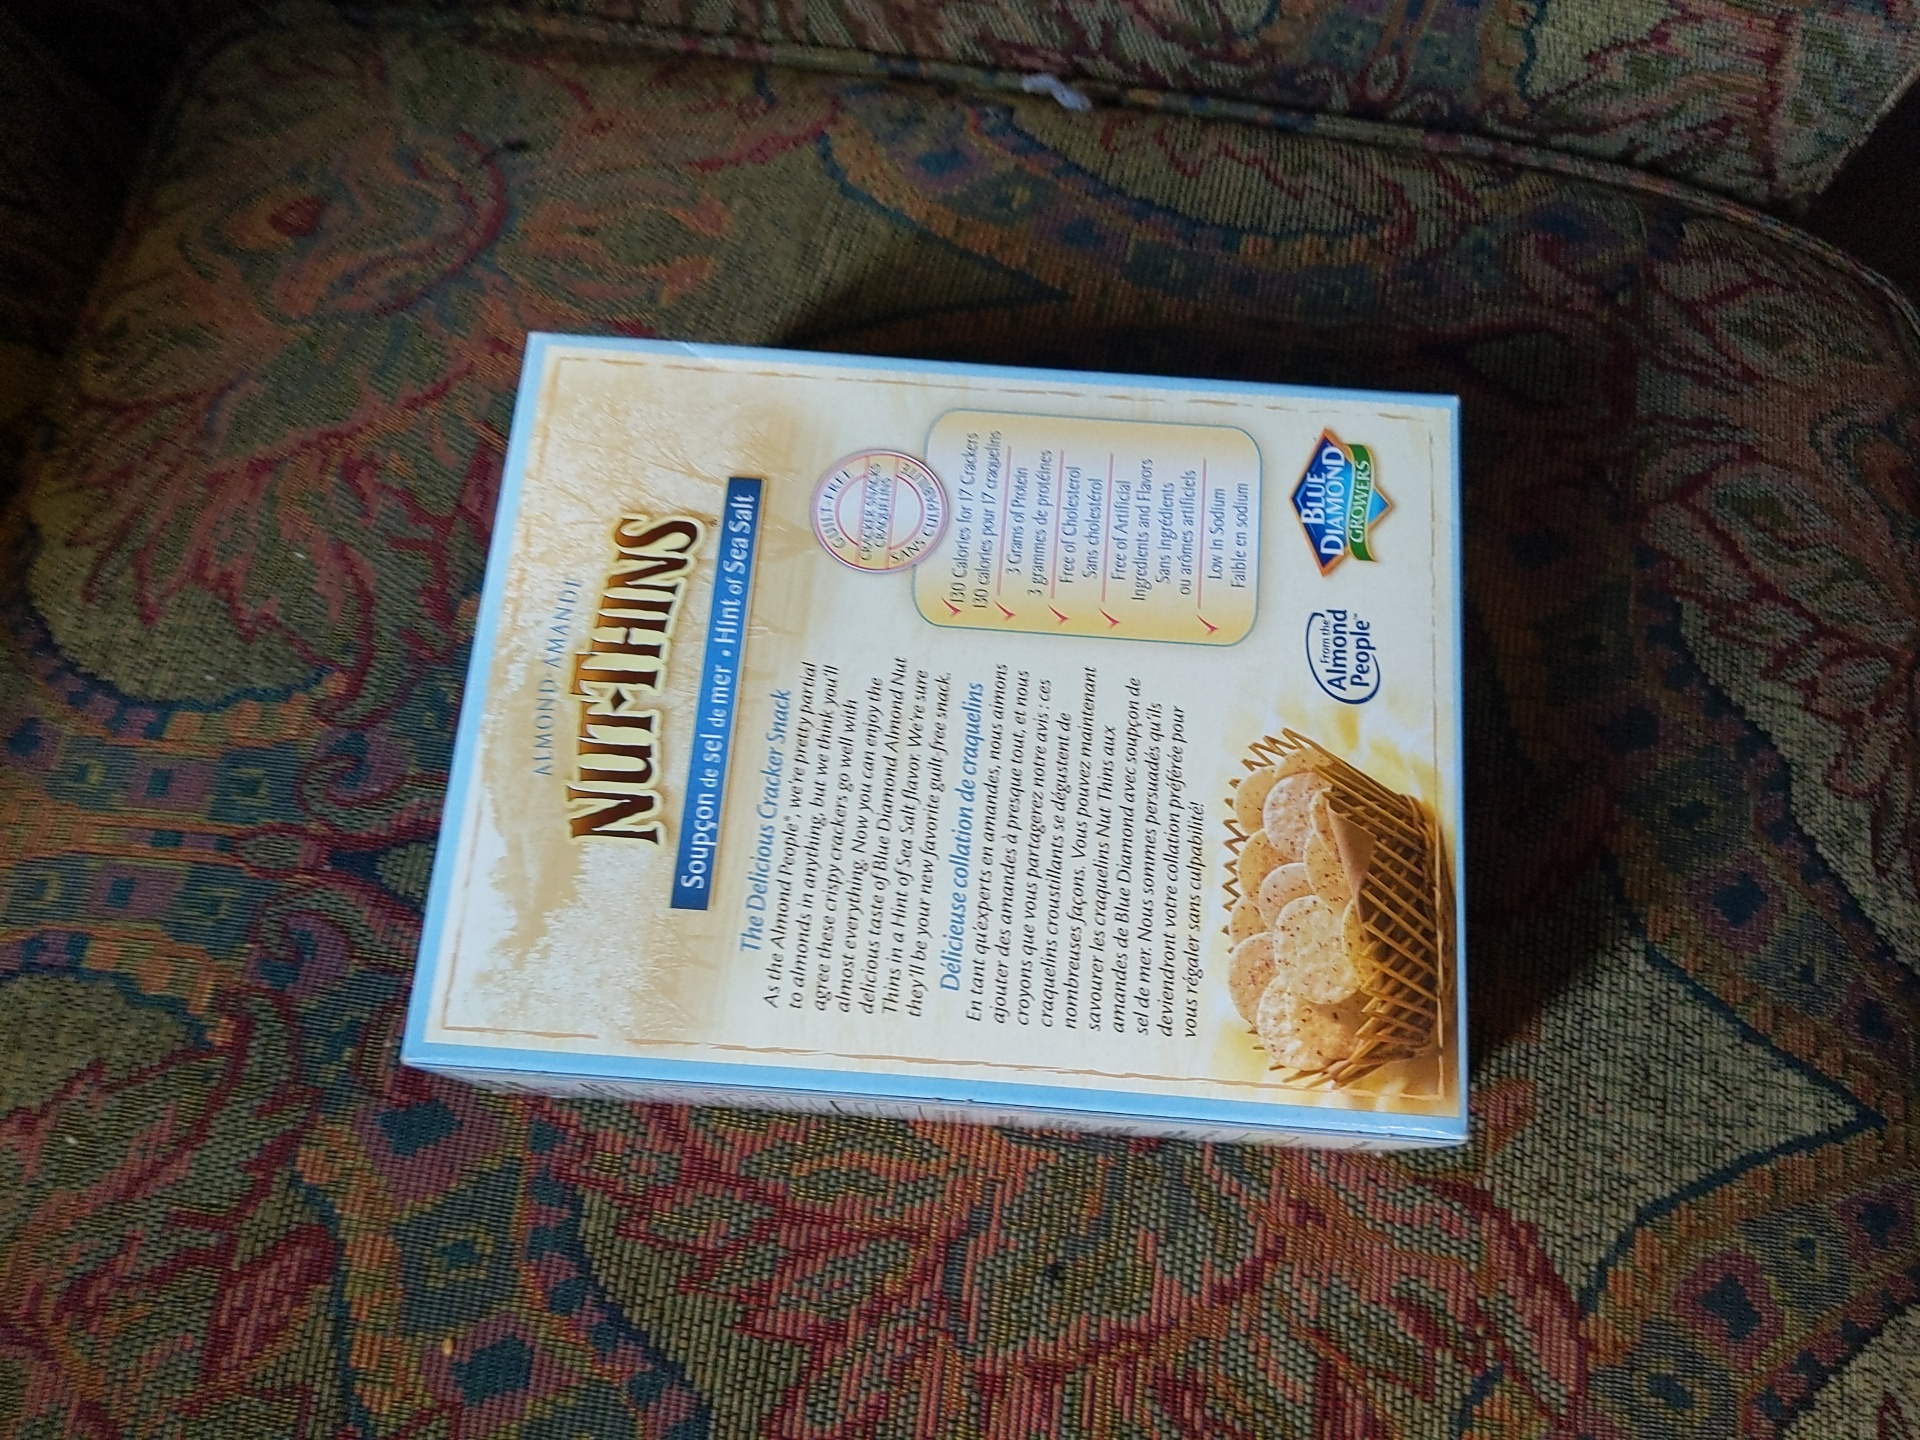blue_diamond_nut_thins_almond_seasalt: (460, 362, 1473, 1148)
